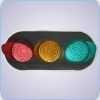5: (7, 37, 34, 66)
9: (36, 36, 64, 68)
red traffic light: (64, 36, 92, 68)
